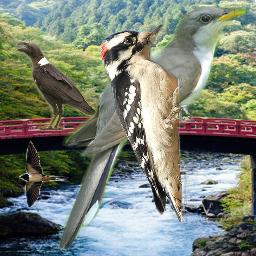Crow: (15, 41, 100, 131)
Cuckoo: (58, 6, 246, 249)
Swallow: (19, 141, 69, 209)
Woodpecker: (99, 25, 187, 222)
